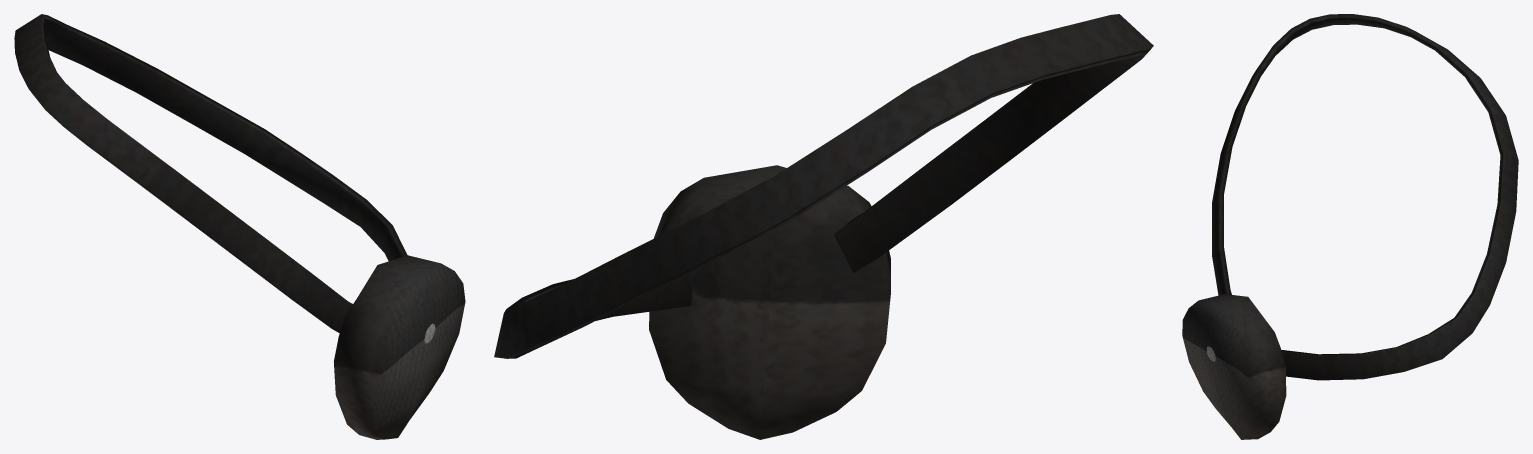
The model's file is M_BagA_3.glb.
3 views of the same model, side by side, from view 1: azimuth 30°, elevation 25°; view 2: azimuth 150°, elevation 25°; view 3: azimuth 270°, elevation 25° (orthographic). The views are drawn at different scales.
Visible parts, largest first — view 1: SM_BagA; view 2: SM_BagA; view 3: SM_BagA.
Part boxes in pixels (box(x1,y1,x2,y2)): SM_BagA: box(14, 14, 465, 439); SM_BagA: box(494, 14, 1153, 439); SM_BagA: box(1182, 14, 1518, 439).
Bounding box in the file's own units: 0.4442 × 0.4484 × 0.427.
1 material, 1 textured.
